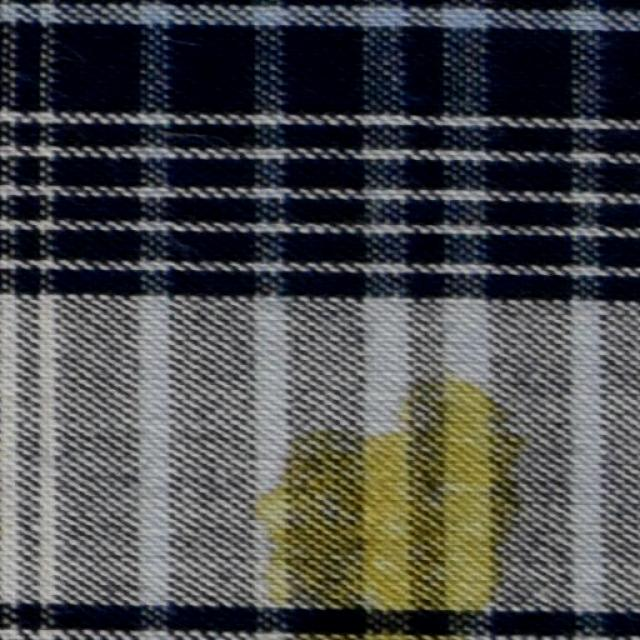Stain: (252, 381, 514, 628)
